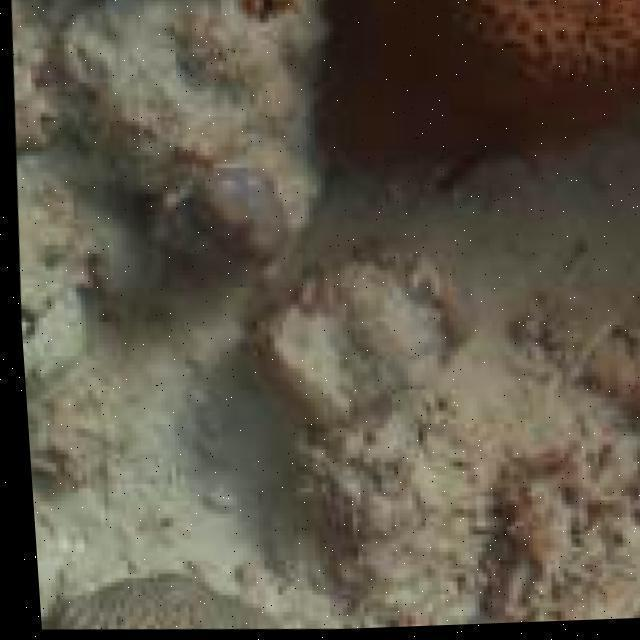Healthy Coral: (431, 0, 640, 139)
